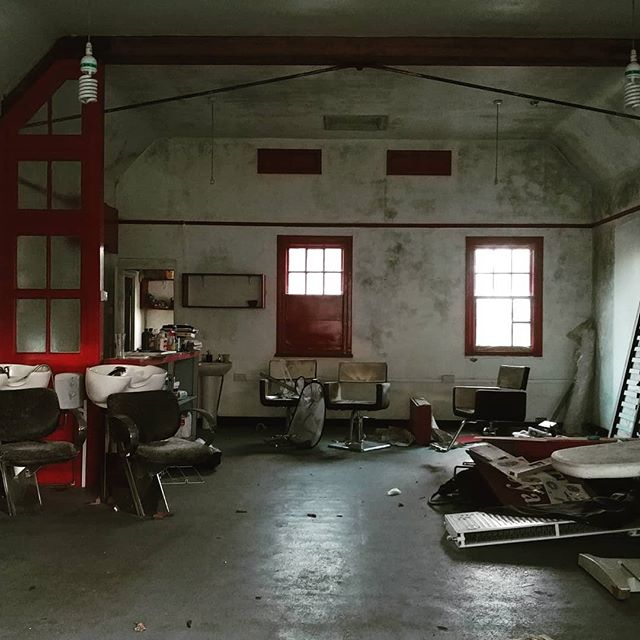chair: (106, 391, 210, 531), (1, 388, 85, 522), (250, 356, 336, 458), (443, 356, 538, 431), (329, 352, 394, 453)
trash: (449, 413, 640, 606)
window: (276, 233, 353, 355), (469, 232, 539, 354)
